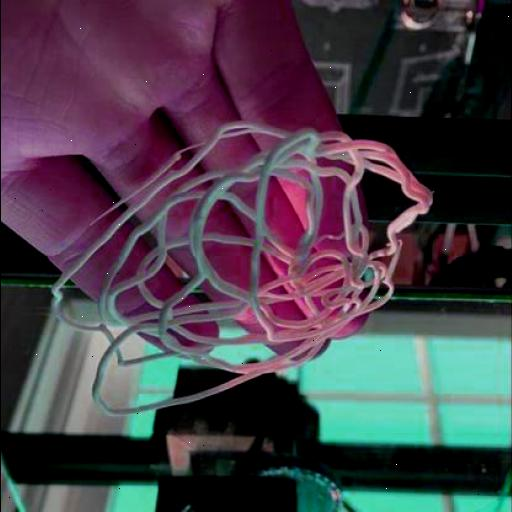spaghetti: (48, 116, 436, 421)
